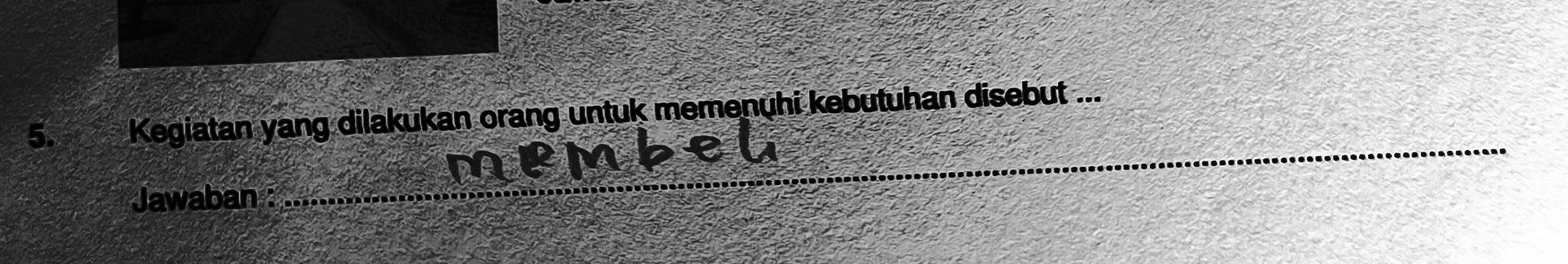jawaban: (444, 116, 787, 193)
